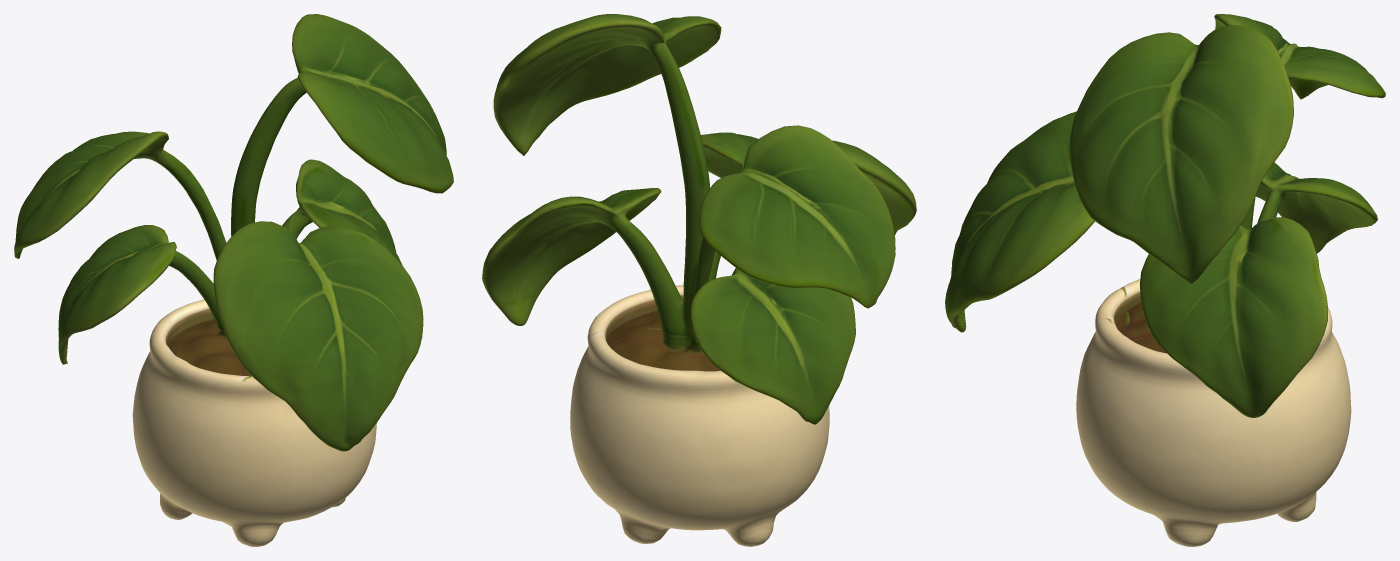
The picture shows the model from 3 angles, left to right: view 1: azimuth 30°, elevation 25°; view 2: azimuth 150°, elevation 25°; view 3: azimuth 270°, elevation 25°; orthographic projection. The views are drawn at different scales.
Visible parts, largest first — view 1: tripo_node_102b6868; view 2: tripo_node_102b6868; view 3: tripo_node_102b6868.
Boxes of the visible parts, left/top/right/bottom form: tripo_node_102b6868: left=14, top=14, right=453, bottom=546; tripo_node_102b6868: left=482, top=14, right=916, bottom=546; tripo_node_102b6868: left=945, top=14, right=1385, bottom=546.
Bounding box in the file's own units: 88.89 × 99.96 × 77.41.
Materials: 1 (1 with a texture image).
